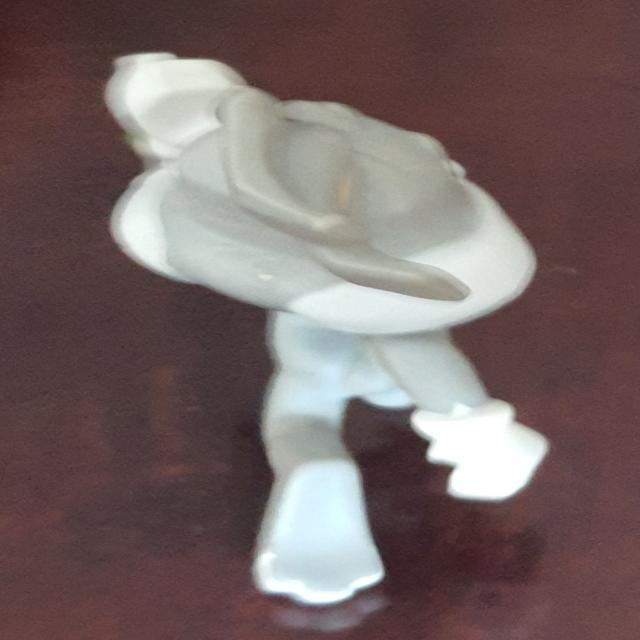Rabbit: (102, 51, 551, 606)
